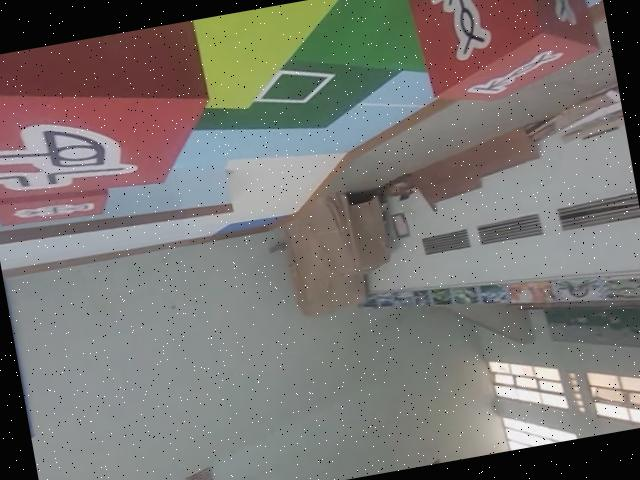R2 Real: (0, 17, 227, 216), (404, 0, 604, 110)
